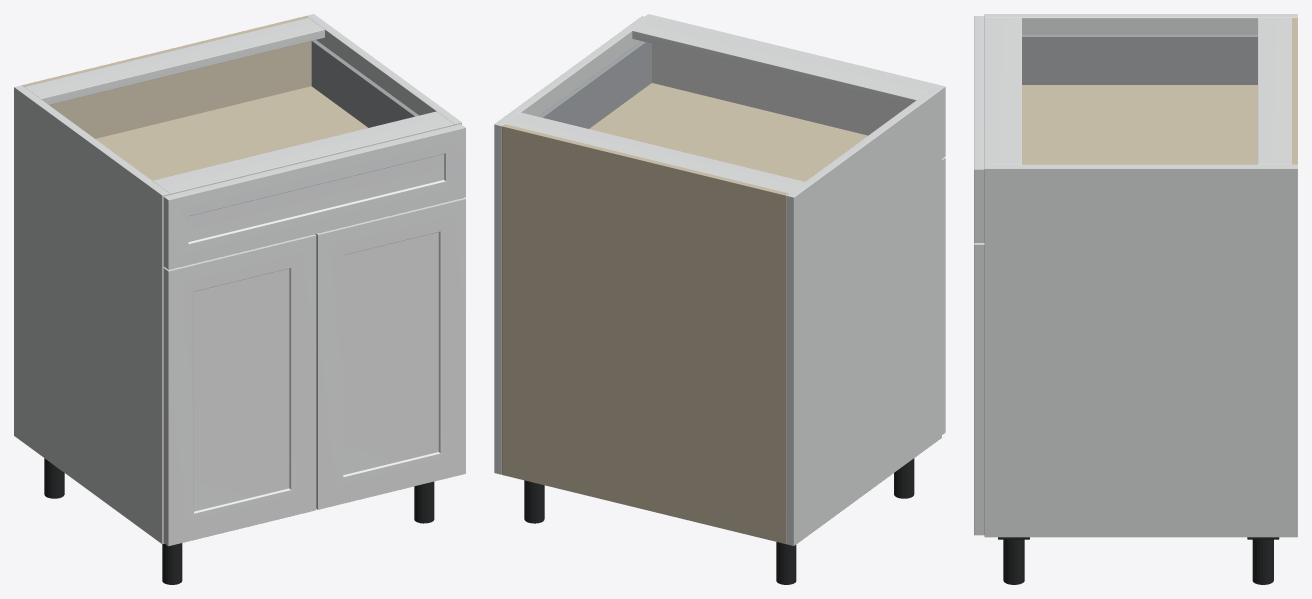
Rendered from PLY-WSS-B27.glb.
3 renders of one model, left to right at view 1: azimuth 30°, elevation 25°; view 2: azimuth 150°, elevation 25°; view 3: azimuth 270°, elevation 25°, orthographic. The views are drawn at different scales.
Parts seen in each view (by area): view 1: Carcass left, Shaker door, Shaker door.001, Drawer front, Drawer bottom, Drawer back, Top support rail, Top support rail.001, Metal drawer side.001, Carcass right, Carcass back, Adjustable foot.001 (+2 smaller); view 2: Carcass back, Carcass left, Drawer bottom, Drawer front, Top support rail.001, Carcass right, Top support rail, Metal drawer side.001, Shaker door, Adjustable foot, Adjustable foot.002, Adjustable foot.001; view 3: Carcass right, Drawer bottom, Metal drawer side, Top support rail.001, Carcass left, Top support rail, Shaker door.001, Drawer front, Adjustable foot.003, Adjustable foot.002, Carcass back.
Boxes of the visible parts, left/top/right/bottom form: Carcass left: left=14, top=85, right=169, bottom=544; Shaker door: left=163, top=234, right=316, bottom=546; Shaker door.001: left=315, top=198, right=465, bottom=509; Drawer front: left=163, top=124, right=465, bottom=269; Drawer bottom: left=95, top=86, right=367, bottom=180; Drawer back: left=49, top=41, right=311, bottom=138; Top support rail: left=25, top=18, right=324, bottom=104; Top support rail.001: left=153, top=111, right=454, bottom=194; Metal drawer side.001: left=311, top=40, right=418, bottom=127; Carcass right: left=306, top=14, right=461, bottom=125; Carcass back: left=22, top=16, right=308, bottom=87; Adjustable foot.001: left=162, top=543, right=182, bottom=584; Carcass back: left=502, top=124, right=788, bottom=543; Carcass left: left=786, top=87, right=941, bottom=545; Drawer bottom: left=589, top=83, right=867, bottom=181; Drawer front: left=645, top=14, right=945, bottom=158; Top support rail.001: left=632, top=18, right=933, bottom=105; Carcass right: left=494, top=16, right=649, bottom=474; Top support rail: left=505, top=112, right=804, bottom=193; Metal drawer side.001: left=538, top=41, right=651, bottom=128; Shaker door: left=942, top=157, right=945, bottom=434; Adjustable foot: left=776, top=542, right=796, bottom=584; Adjustable foot.002: left=524, top=480, right=544, bottom=523; Adjustable foot.001: left=894, top=458, right=914, bottom=498; Carcass right: left=984, top=164, right=1297, bottom=537; Drawer bottom: left=1022, top=85, right=1257, bottom=164; Metal drawer side: left=1022, top=34, right=1257, bottom=84; Top support rail.001: left=984, top=18, right=1021, bottom=164; Carcass left: left=984, top=14, right=1297, bottom=34; Top support rail: left=1258, top=18, right=1291, bottom=164; Shaker door.001: left=974, top=243, right=984, bottom=535; Drawer front: left=974, top=16, right=984, bottom=242; Adjustable foot.003: left=1003, top=539, right=1024, bottom=584; Adjustable foot.002: left=1252, top=539, right=1273, bottom=584; Carcass back: left=1292, top=18, right=1297, bottom=164.
Bounding box in the file's own units: 0.6858 × 0.8763 × 0.6064.
